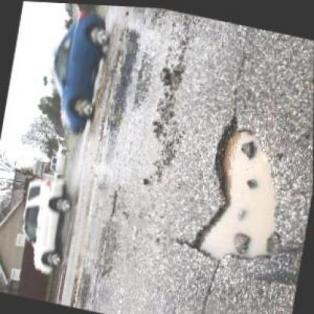Hueco: (190, 110, 295, 271), (106, 25, 140, 130)
